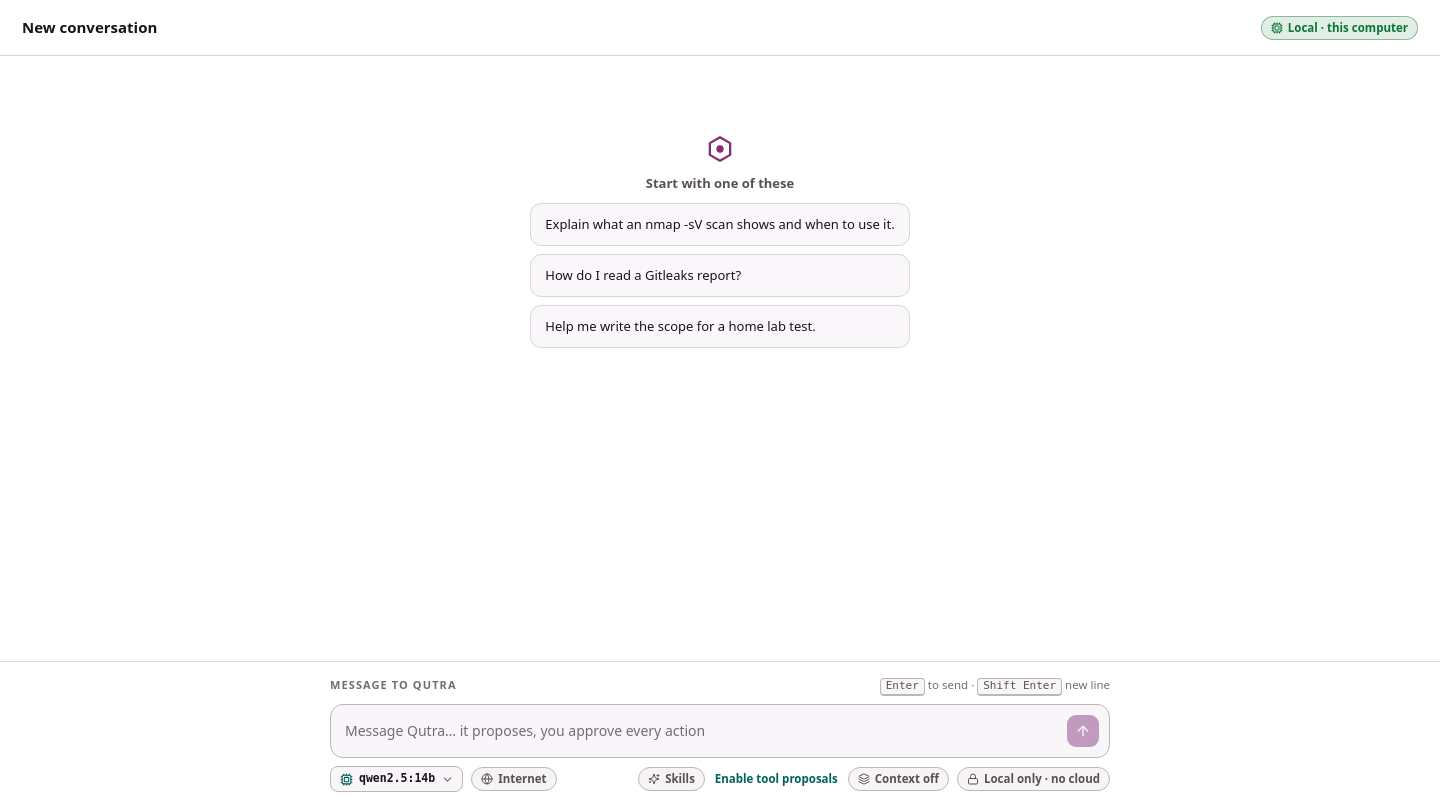
Scenario: each answer names where the conversation was sent › keeps the recipient with the answer, in the transcript and in storage
Type "hi" into the text box labelled "Message to Qutra" at {"x": 702, "y": 732}, box [345,718,1059,747]
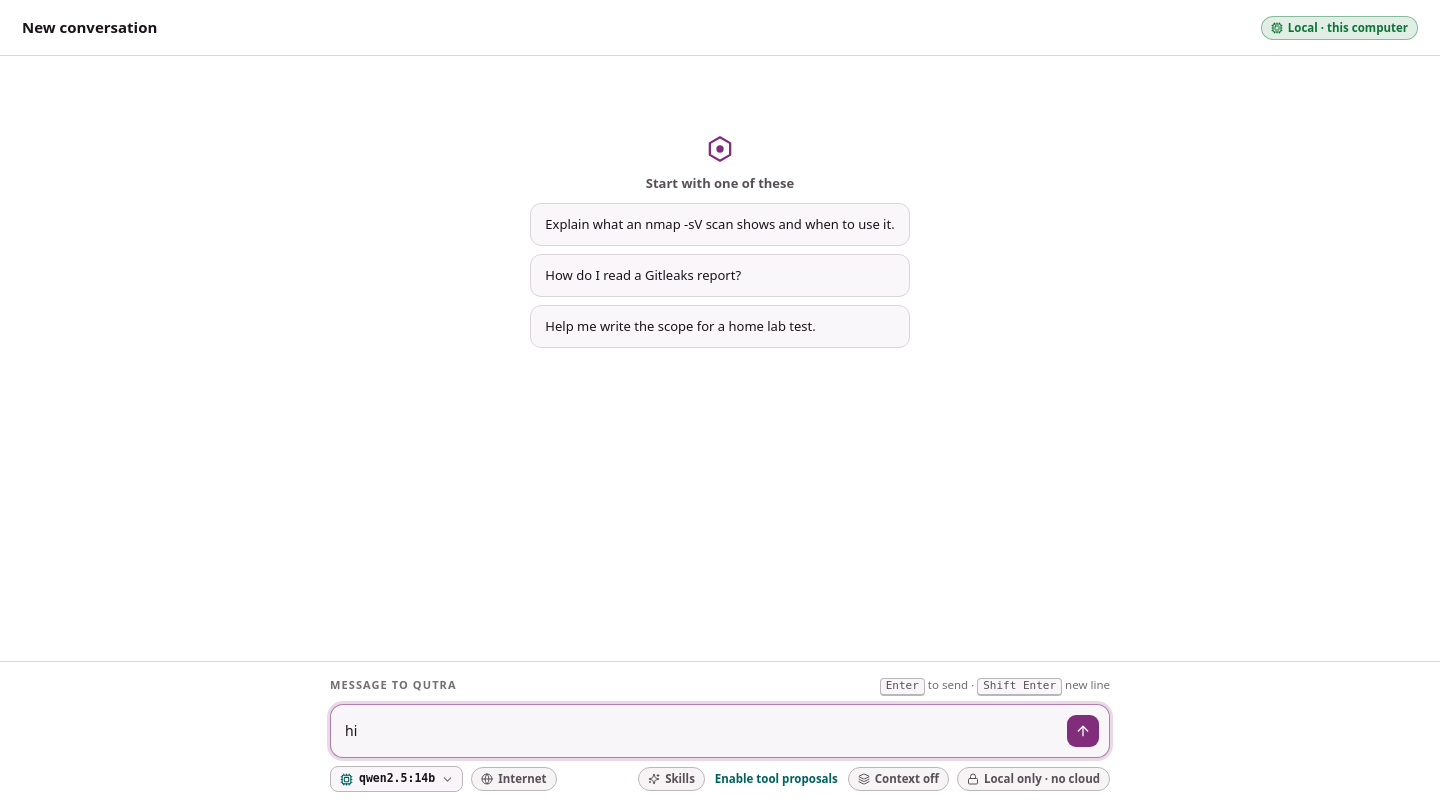
Click the button named "Send" at {"x": 1083, "y": 731}, box [1067,715,1099,747]
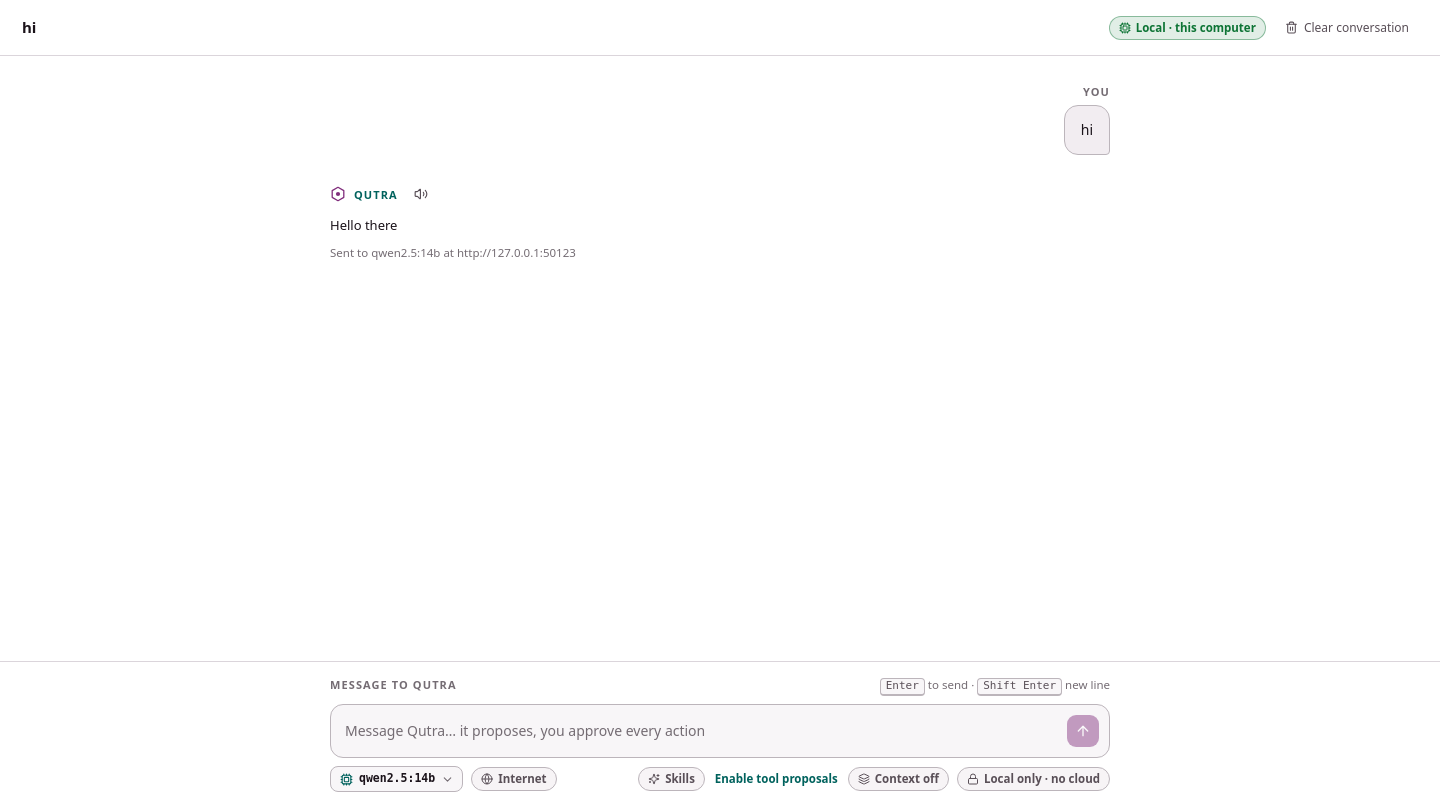
Result: the text "Hello there" is shown at [330,216,397,234]
